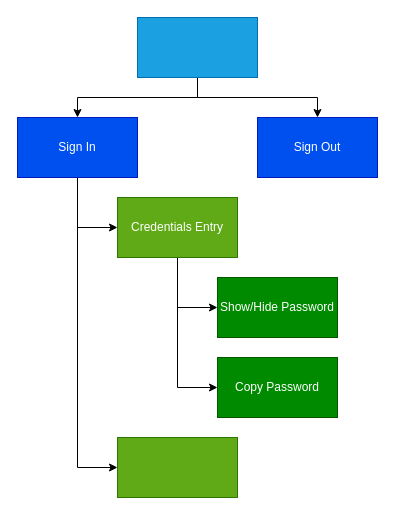
Image size: 395x515. Some labels were removed from this diagram. Here are the shapes that lost their labels. From the top down, the centre of each, then its label:
At point (197, 47): "Page".
At point (177, 467): "Save Changes".
